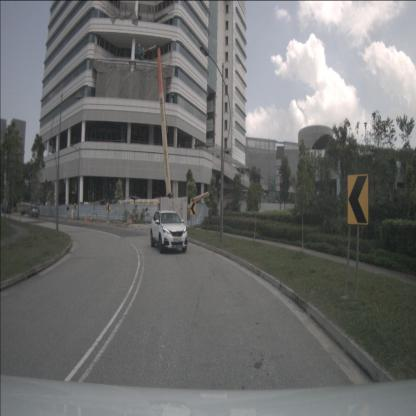cone: (88, 213, 90, 222), (84, 215, 87, 221)
